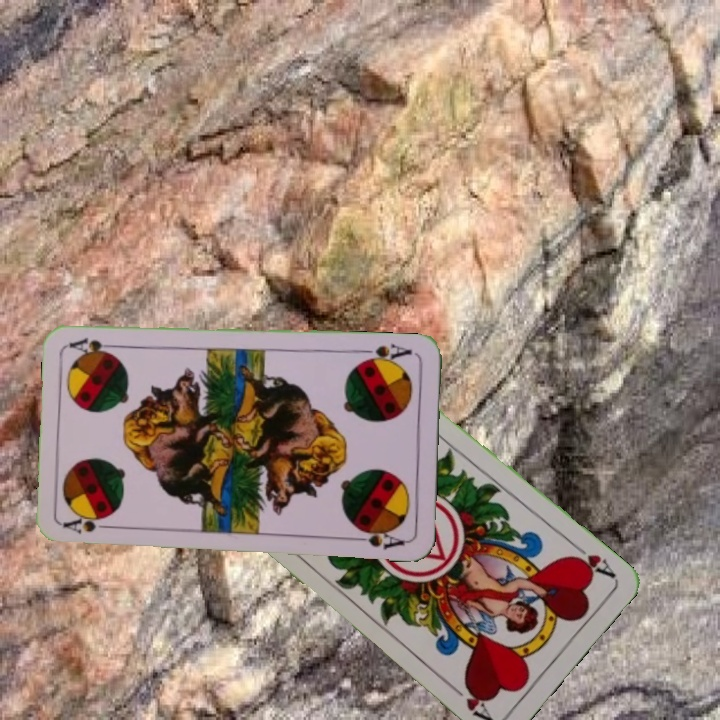HA: (566, 538, 618, 581)
SA: (357, 339, 414, 367), (60, 513, 119, 536)
